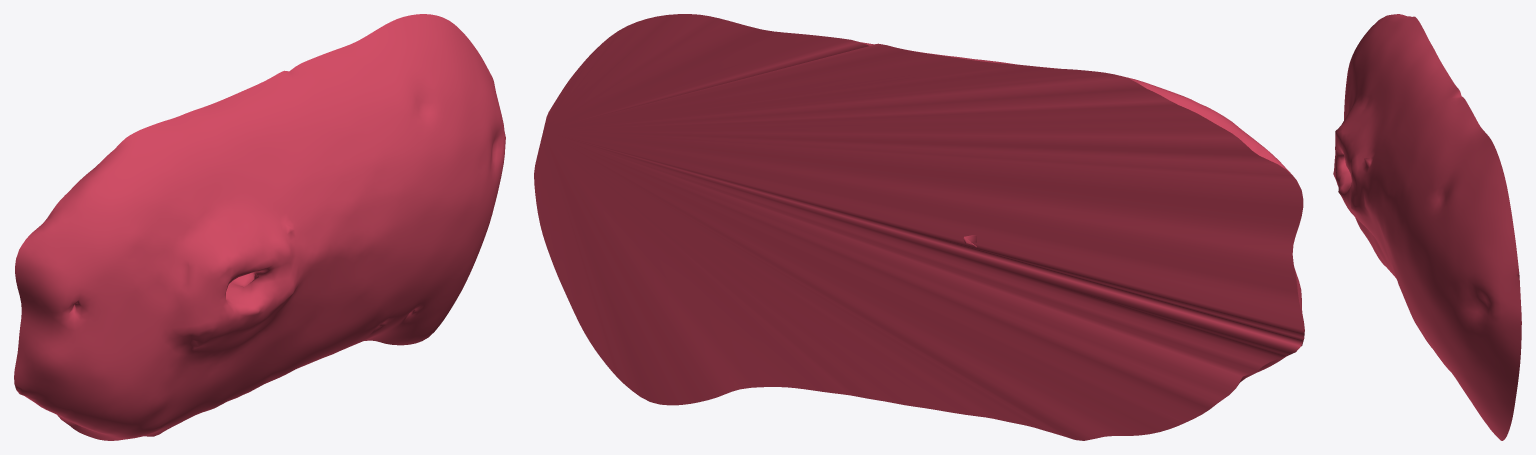
File: deformable_fetus_final_version_smoothed_watertight.obj
The picture shows the model from 3 angles, left to right: view 1: azimuth 30°, elevation 25°; view 2: azimuth 150°, elevation 25°; view 3: azimuth 270°, elevation 25°; orthographic projection. The views are drawn at different scales.
Parts seen in each view (by area): view 1: deformable_fetus_version_complex_smoothed_unclosed_bottom2; view 2: deformable_fetus_version_complex_smoothed_unclosed_bottom2; view 3: deformable_fetus_version_complex_smoothed_unclosed_bottom2.
Boxes of the visible parts, <box> form: deformable_fetus_version_complex_smoothed_unclosed_bottom2: <box>14,14,505,440</box>; deformable_fetus_version_complex_smoothed_unclosed_bottom2: <box>534,14,1304,440</box>; deformable_fetus_version_complex_smoothed_unclosed_bottom2: <box>1333,14,1521,440</box>.
Bounding box in the file's own units: 0.8018 × 0.448 × 0.2686.
